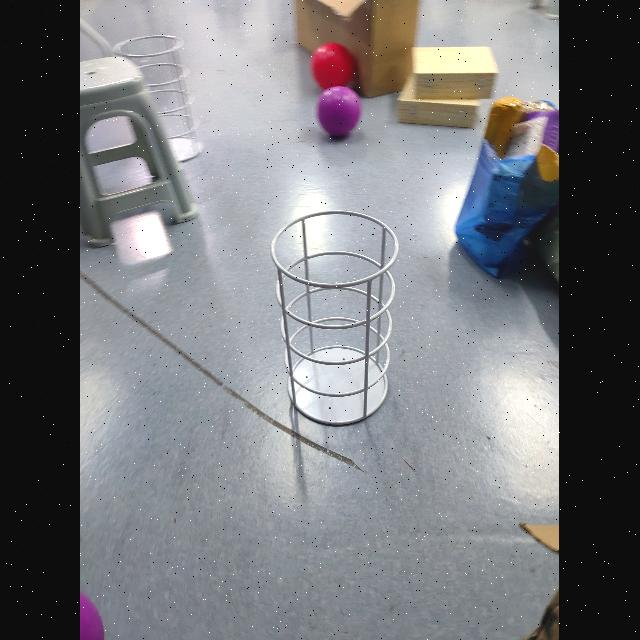S: (266, 206, 402, 427)
